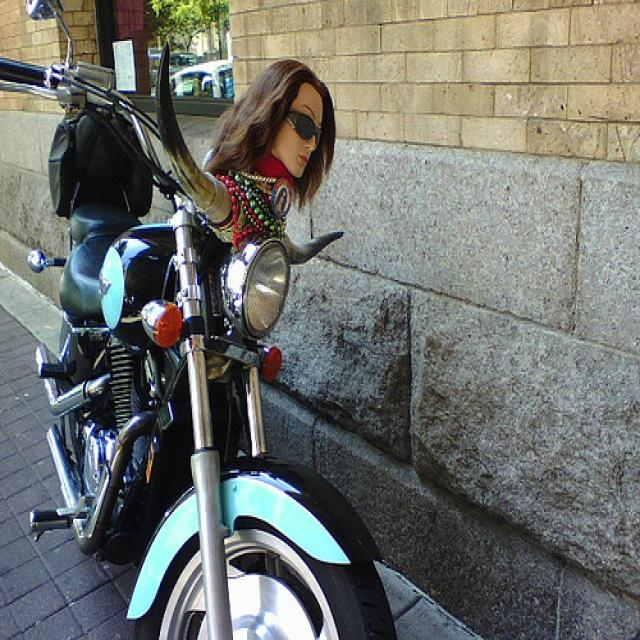motor: (1, 3, 398, 633)
